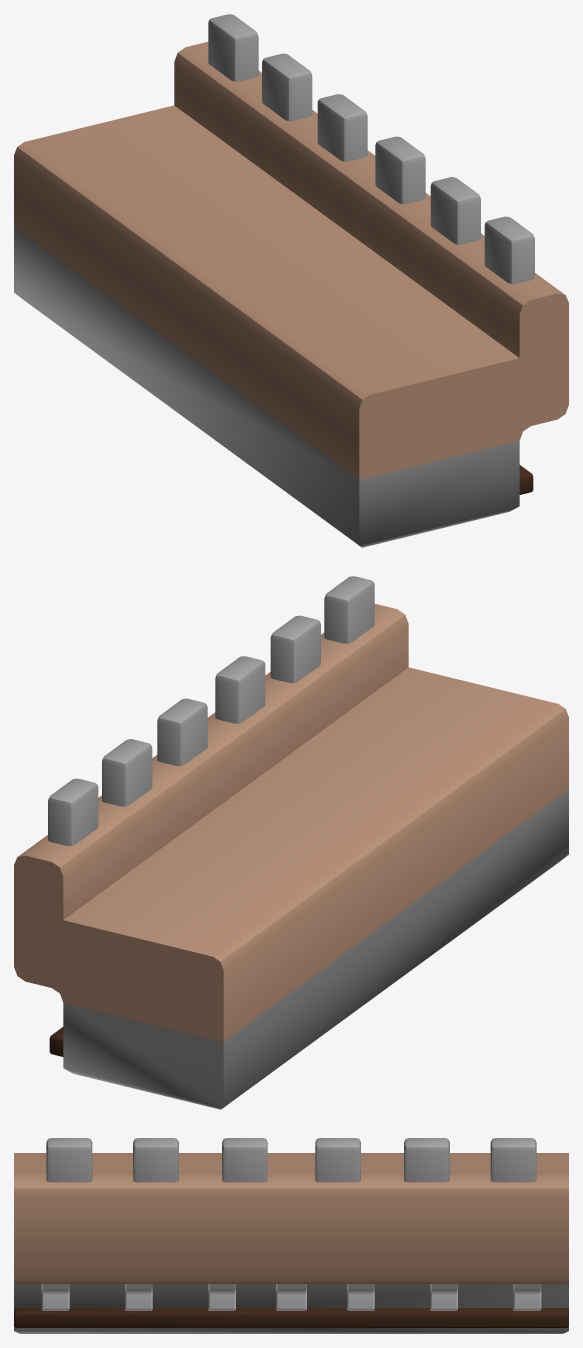
Rendered from Wall_3.fbx.
3 views of the same model, one above another, from view 1: azimuth 30°, elevation 25°; view 2: azimuth 150°, elevation 25°; view 3: azimuth 270°, elevation 25° (orthographic). The views are drawn at different scales.
Parts seen in each view (by area): view 1: Wall_3; view 2: Wall_3; view 3: Wall_3.
Part boxes in pixels (<box>): Wall_3: <box>14,14,568,547</box>; Wall_3: <box>14,576,568,1109</box>; Wall_3: <box>14,1138,568,1333</box>.
Bounding box in the file's own units: 1.04 × 1.21 × 2.98.
